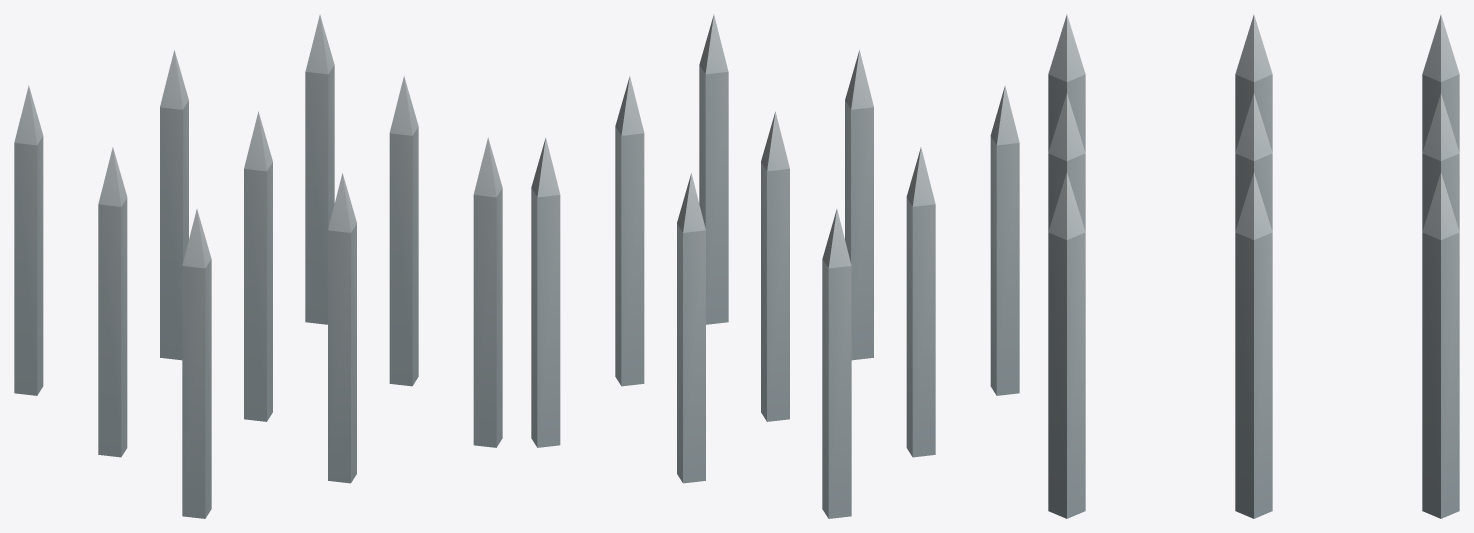
Rendered from floor_tile_big_spikes_spikes.gltf.
3 renders of one model, left to right at view 1: azimuth 30°, elevation 25°; view 2: azimuth 150°, elevation 25°; view 3: azimuth 270°, elevation 25°, orthographic. The views are drawn at different scales.
Parts seen in each view (by area): view 1: spikes; view 2: spikes; view 3: spikes.
Part boxes in pixels (bbox=[...]): spikes: bbox=[14, 14, 502, 518]; spikes: bbox=[531, 14, 1019, 518]; spikes: bbox=[1048, 14, 1459, 518].
Size of the model in its own units: 2.2 by 2 by 2.2.
1 material, 1 textured.
